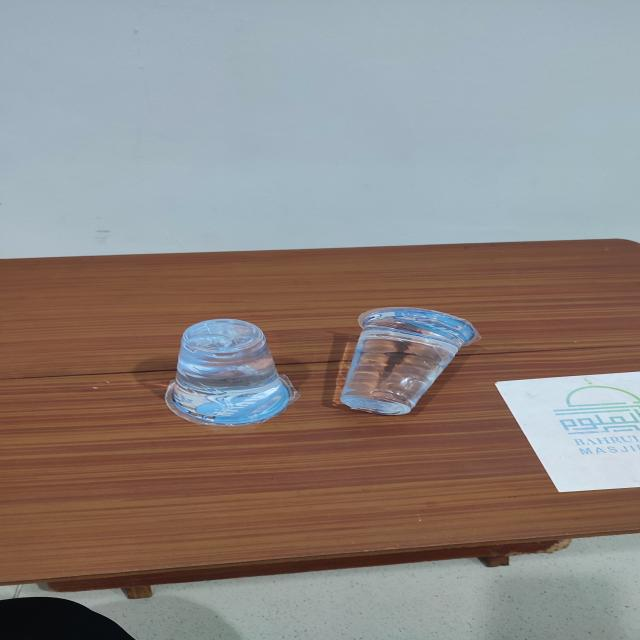air gelas: (328, 301, 485, 421), (152, 315, 310, 433)
